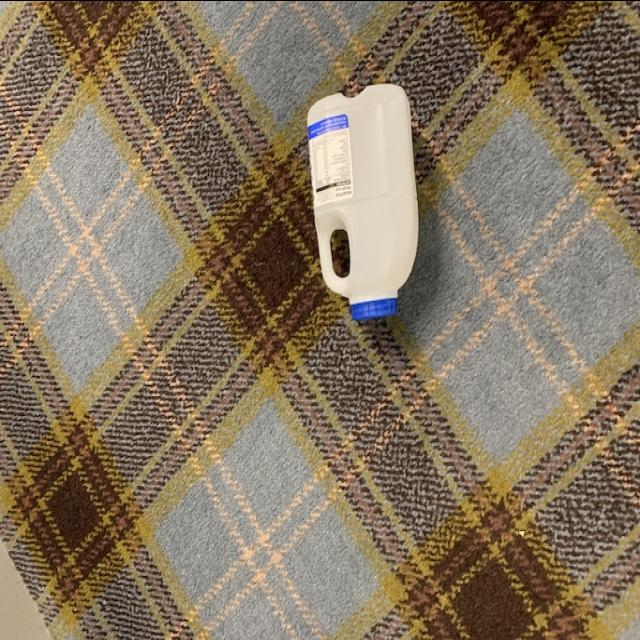litter: (306, 82, 422, 324)
